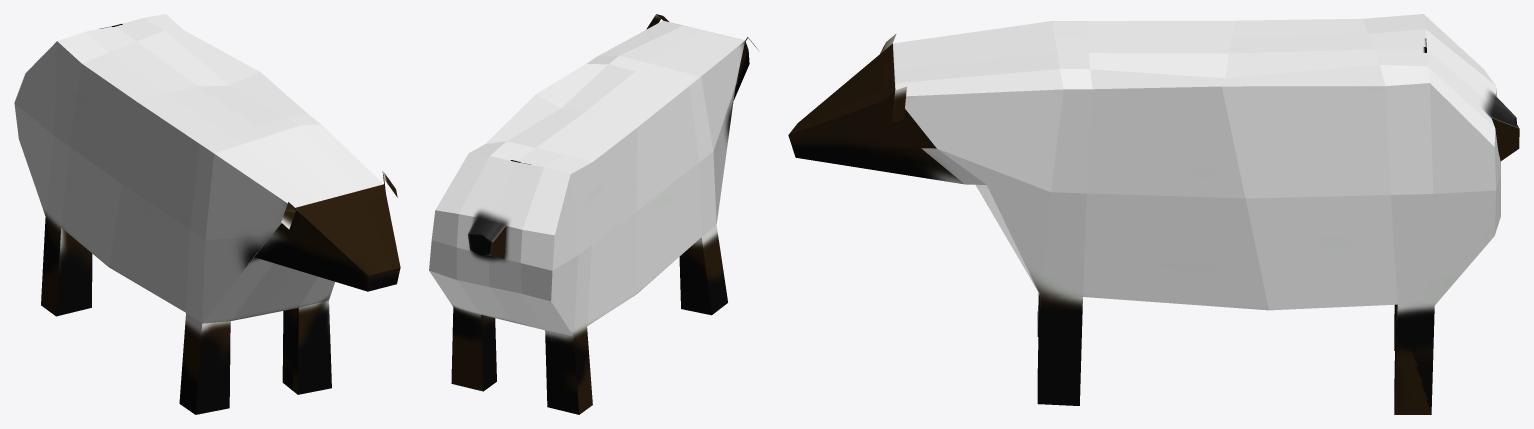
The model's file is FirstAnimal.gltf.
3 views of the same model, side by side, from view 1: azimuth 30°, elevation 25°; view 2: azimuth 150°, elevation 25°; view 3: azimuth 270°, elevation 25° (orthographic). The views are drawn at different scales.
Visible parts, largest first — view 1: Cube; view 2: Cube; view 3: Cube.
Boxes of the visible parts, box(x1,y1,x2,y2) form: Cube: box(14, 14, 400, 414); Cube: box(429, 14, 759, 414); Cube: box(788, 14, 1519, 414).
Bounding box in the file's own units: 2.6 × 4.38 × 8.92.
Materials: 1 (1 with a texture image).
